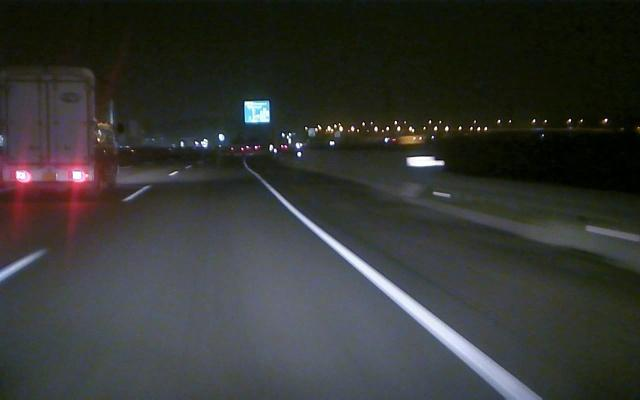lane: (268, 188, 544, 399), (1, 184, 151, 282)
